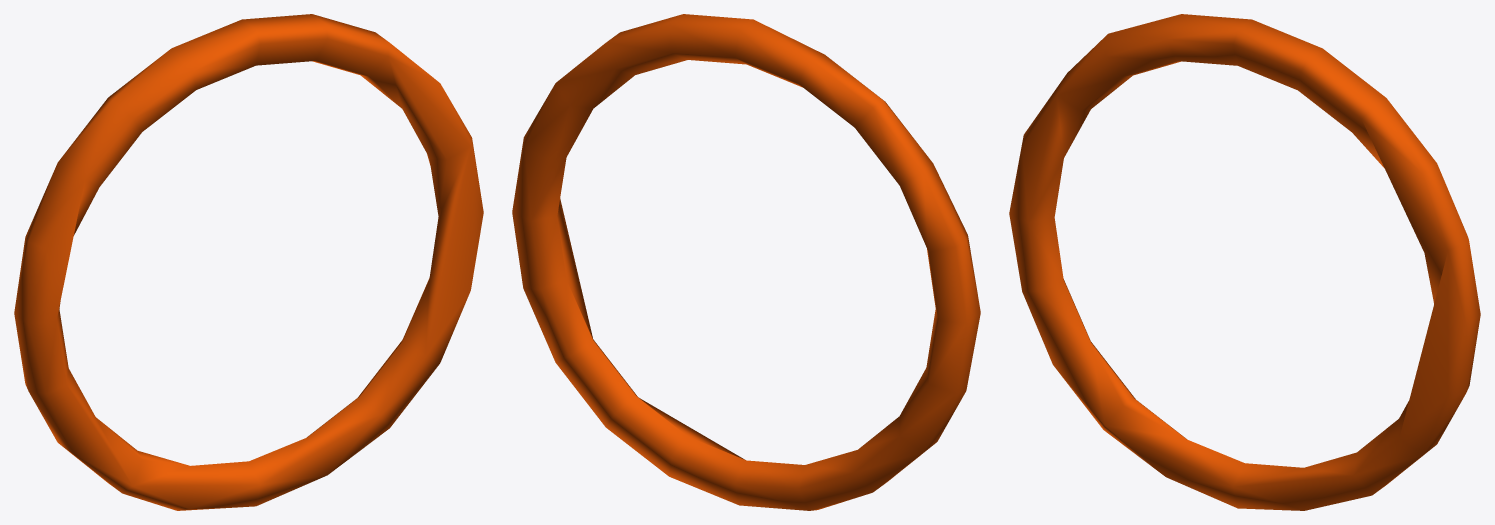
File: ringOrange.fbx
3 renders of one model, left to right at view 1: azimuth 30°, elevation 25°; view 2: azimuth 150°, elevation 25°; view 3: azimuth 330°, elevation 25°, orthographic.
Parts seen in each view (by area): view 1: pTorus1; view 2: pTorus1; view 3: pTorus1.
Boxes of the visible parts, x1=… form: pTorus1: x1=14, y1=14, x2=483, y2=510; pTorus1: x1=512, y1=14, x2=980, y2=510; pTorus1: x1=1009, y1=14, x2=1480, y2=510.
Size of the model in its own units: 1.94 by 1.94 by 0.1711.
